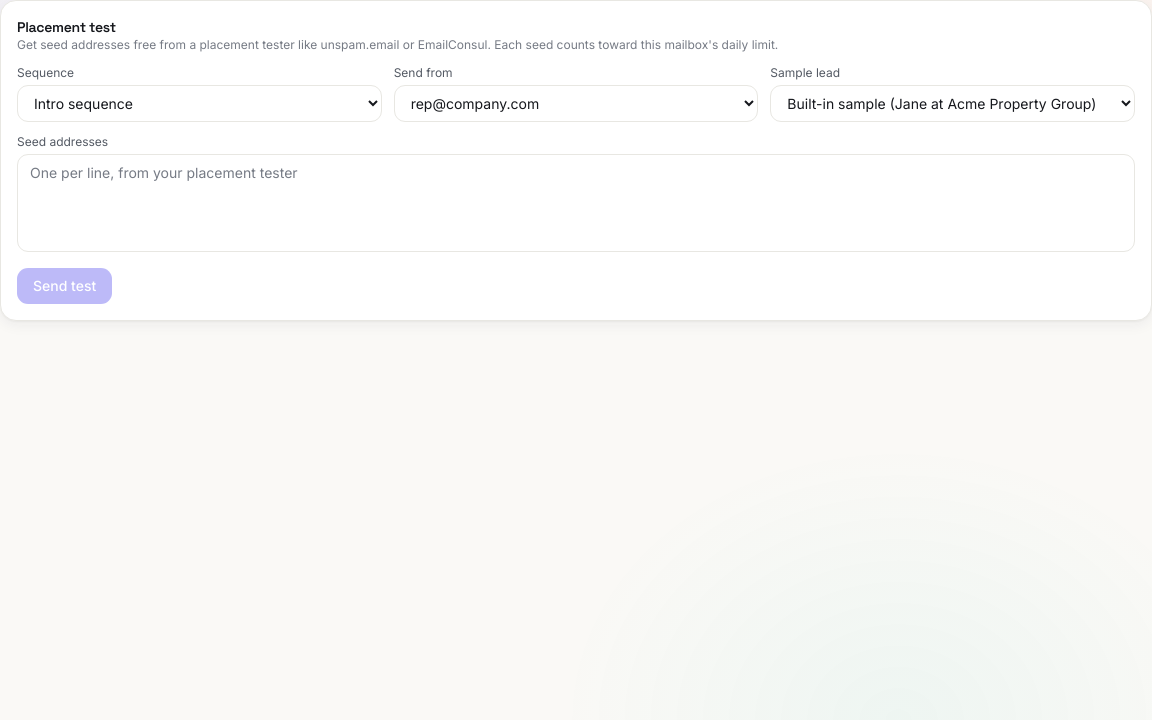
Test: PlacementTestCard › resets busy state in finally even when fetch throws
This screenshot has width=1152, height=720.
Step 1. Type "a@tester.com" into the text box labelled "Seed addresses" → (576, 203), box x1=17 y1=154 x2=1135 y2=252
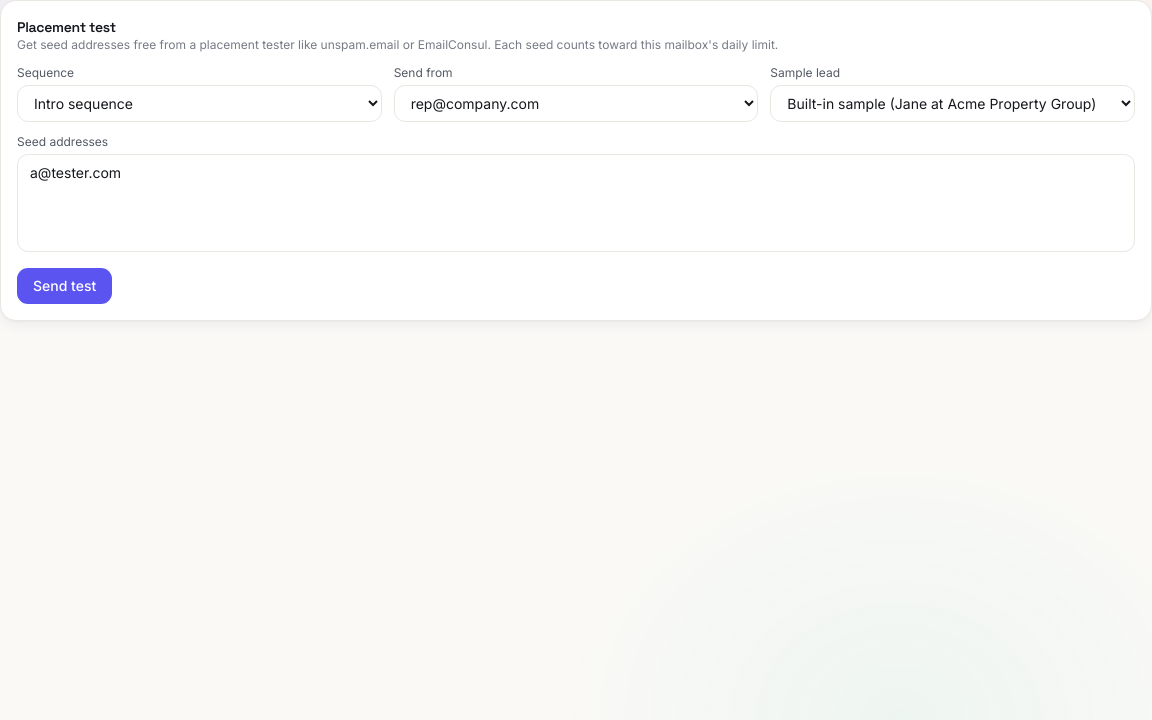
Step 2. Click the button "Send test" → click(65, 286), box x1=17 y1=268 x2=112 y2=304
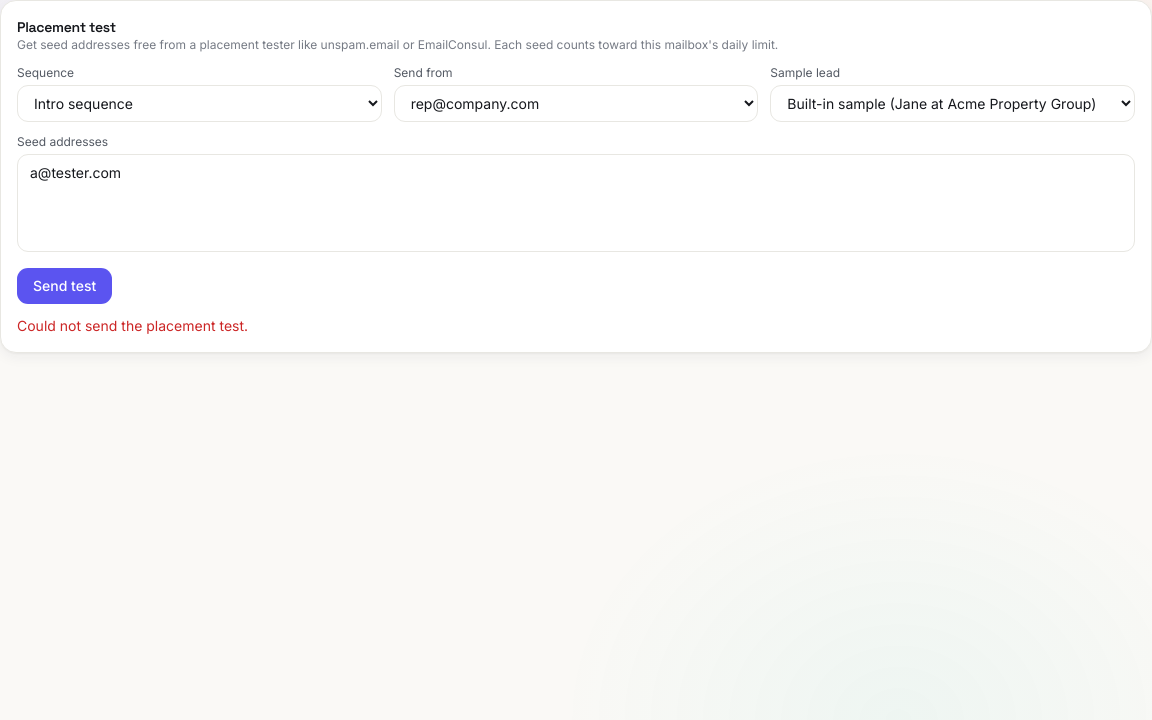
Expected: the button "Send test" is enabled, x1=17 y1=268 x2=112 y2=304
Expected: the message "Could not send the placement test." is shown, x1=17 y1=317 x2=248 y2=334
